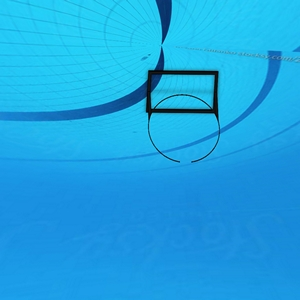circle: (143, 69, 226, 168)
